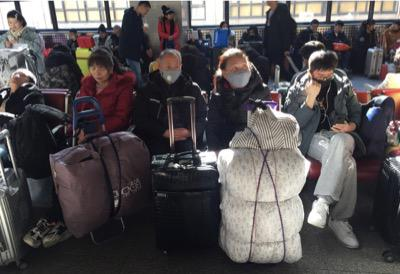with_mask: (225, 60, 252, 88), (159, 61, 182, 85), (314, 71, 335, 92), (221, 24, 228, 32)
without_mask: (88, 63, 110, 83), (9, 70, 30, 89), (7, 18, 20, 30), (142, 6, 149, 17), (335, 24, 342, 33), (390, 22, 398, 29), (369, 22, 375, 31), (311, 24, 317, 31), (168, 11, 173, 19), (99, 31, 105, 37), (114, 29, 120, 35), (249, 30, 255, 36), (70, 31, 75, 38)
